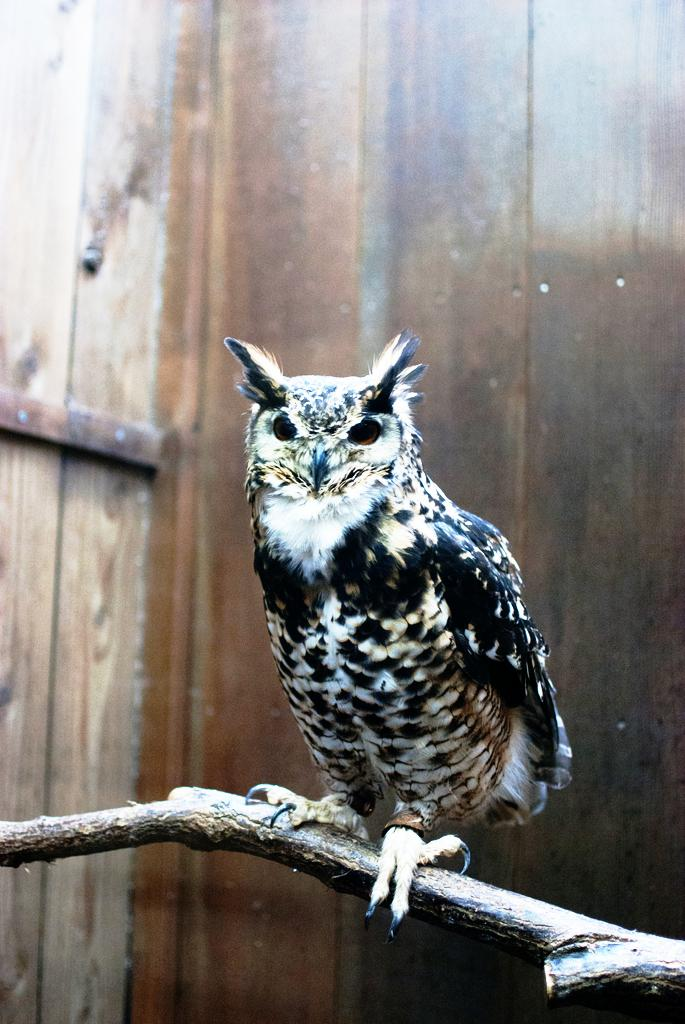Owl: (226, 332, 581, 942)
